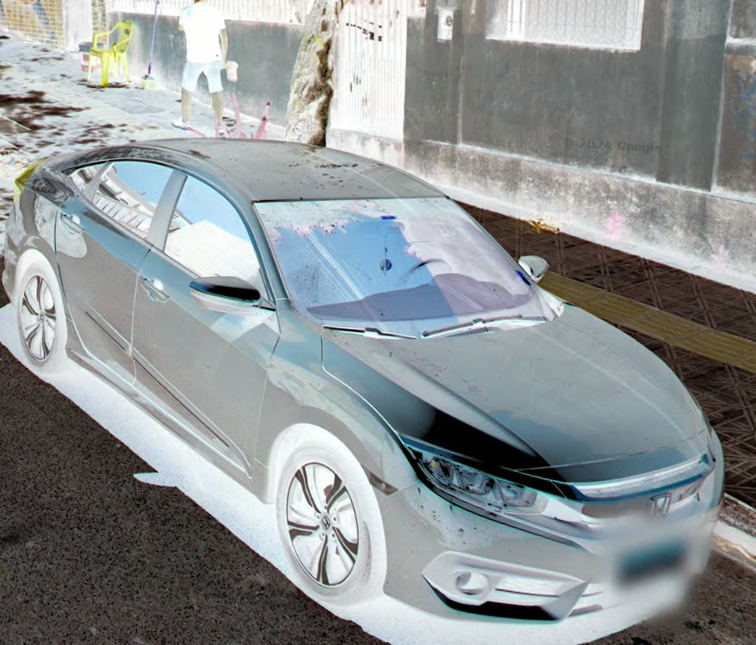car: (1, 137, 726, 620)
